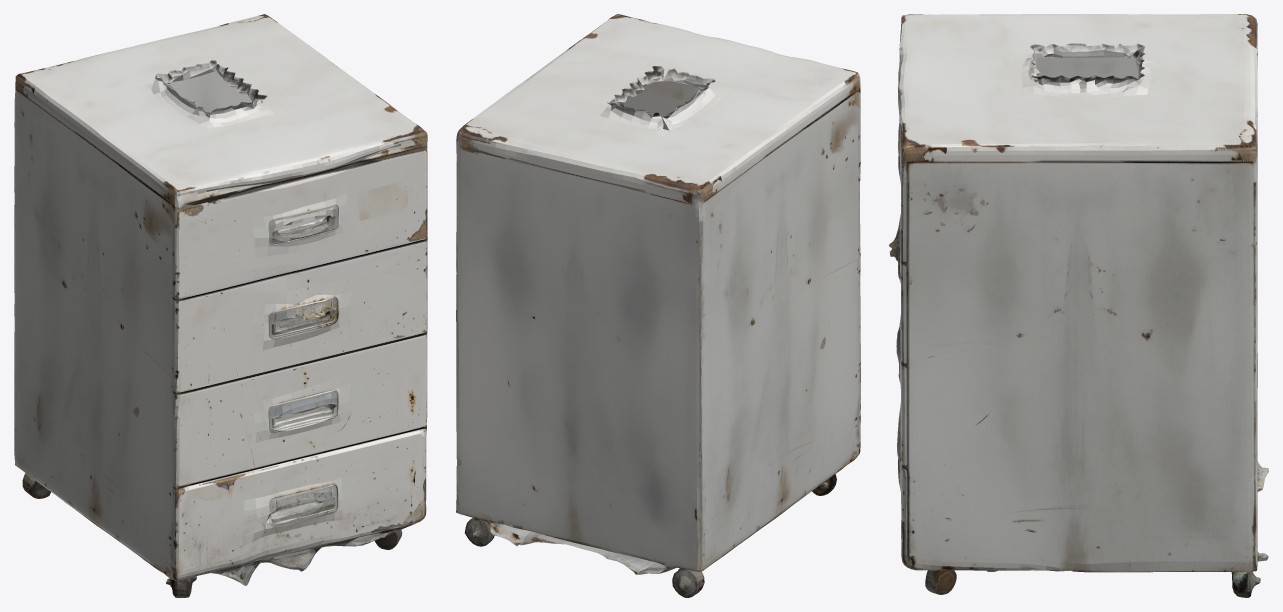
Rendered from Meshy_AI_Rusty_White_Filing_Ca_0519014704_texture.fbx.
3 renders of one model, left to right at view 1: azimuth 30°, elevation 25°; view 2: azimuth 150°, elevation 25°; view 3: azimuth 270°, elevation 25°, orthographic. The views are drawn at different scales.
Parts seen in each view (by area): view 1: temp; view 2: temp; view 3: temp.
Part boxes in pixels (bbox=[...]): temp: bbox=[14, 14, 427, 597]; temp: bbox=[456, 14, 860, 597]; temp: bbox=[889, 14, 1268, 597].
Size of the model in its own units: 119 by 198 by 143.
Materials: 1 (1 with a texture image).
